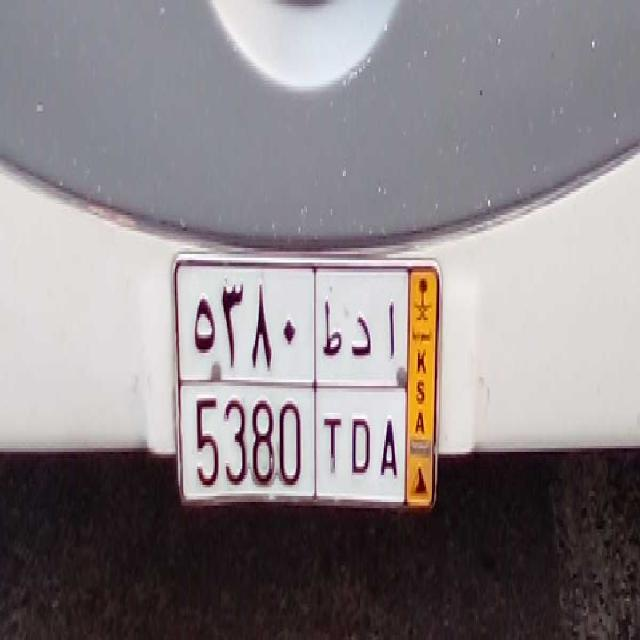license_plate: (180, 385, 406, 507)
